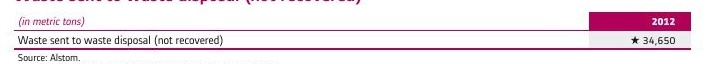table: (0, 0, 708, 64)
